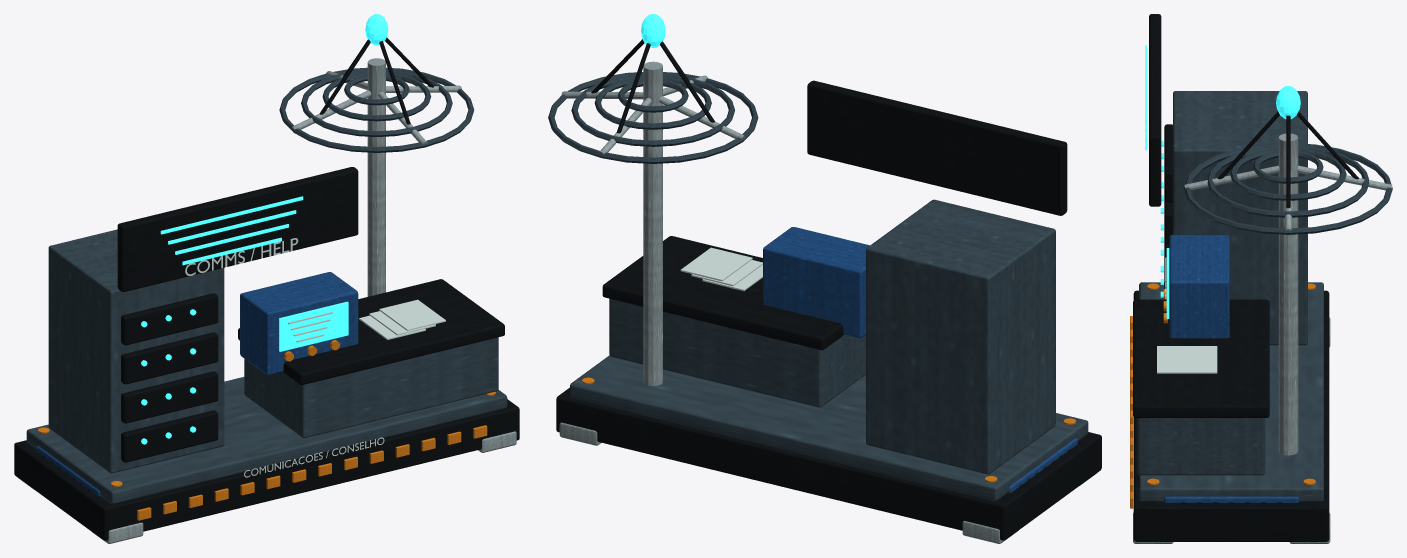
Rendered from posto-comunicacoes.glb.
The picture shows the model from 3 angles, left to right: view 1: azimuth 30°, elevation 25°; view 2: azimuth 150°, elevation 25°; view 3: azimuth 270°, elevation 25°; orthographic projection. The views are drawn at different scales.
Visible parts, largest first — view 1: Deck aparafusado.001, Chassi reforçado.001, Painel de inspeção lateral.002, Sapata de nivelamento.004, Indicador do rádio.012, COMUNICACOES / CONSELHO.001, Parafuso de ancoragem.004; view 2: Deck aparafusado.001, Chassi reforçado.001, Painel de inspeção lateral.002, Sapata de nivelamento.004, COMUNICACOES / CONSELHO.001, Indicador do rádio.012; view 3: Deck aparafusado.001, Chassi reforçado.001, Sapata de nivelamento.004, Painel de inspeção lateral.002, COMUNICACOES / CONSELHO.001, Indicador do rádio.012, Parafuso de ancoragem.004.
Boxes of the visible parts, x1,y1,x2,y2 form: Deck aparafusado.001: (26, 67, 507, 504); Chassi reforçado.001: (14, 37, 519, 540); Painel de inspeção lateral.002: (36, 272, 358, 496); Sapata de nivelamento.004: (18, 58, 516, 543); Indicador do rádio.012: (141, 14, 388, 444); COMUNICACOES / CONSELHO.001: (185, 238, 445, 477); Parafuso de ancoragem.004: (38, 340, 495, 520); Deck aparafusado.001: (548, 72, 1088, 500); Chassi reforçado.001: (556, 39, 1101, 540); Painel de inspeção lateral.002: (763, 227, 1077, 492); Sapata de nivelamento.004: (559, 61, 1096, 543); COMUNICACOES / CONSELHO.001: (680, 247, 762, 291); Indicador do rádio.012: (641, 14, 665, 47); Deck aparafusado.001: (1137, 91, 1392, 501); Chassi reforçado.001: (1133, 14, 1358, 541); Sapata de nivelamento.004: (1133, 133, 1392, 543); Painel de inspeção lateral.002: (1164, 234, 1298, 502); COMUNICACOES / CONSELHO.001: (1157, 257, 1217, 373); Indicador do rádio.012: (1145, 45, 1300, 318); Parafuso de ancoragem.004: (1130, 283, 1315, 508).
Size of the model in its own units: 2.99 by 2.62 by 1.48.
7 materials, 5 textured.
